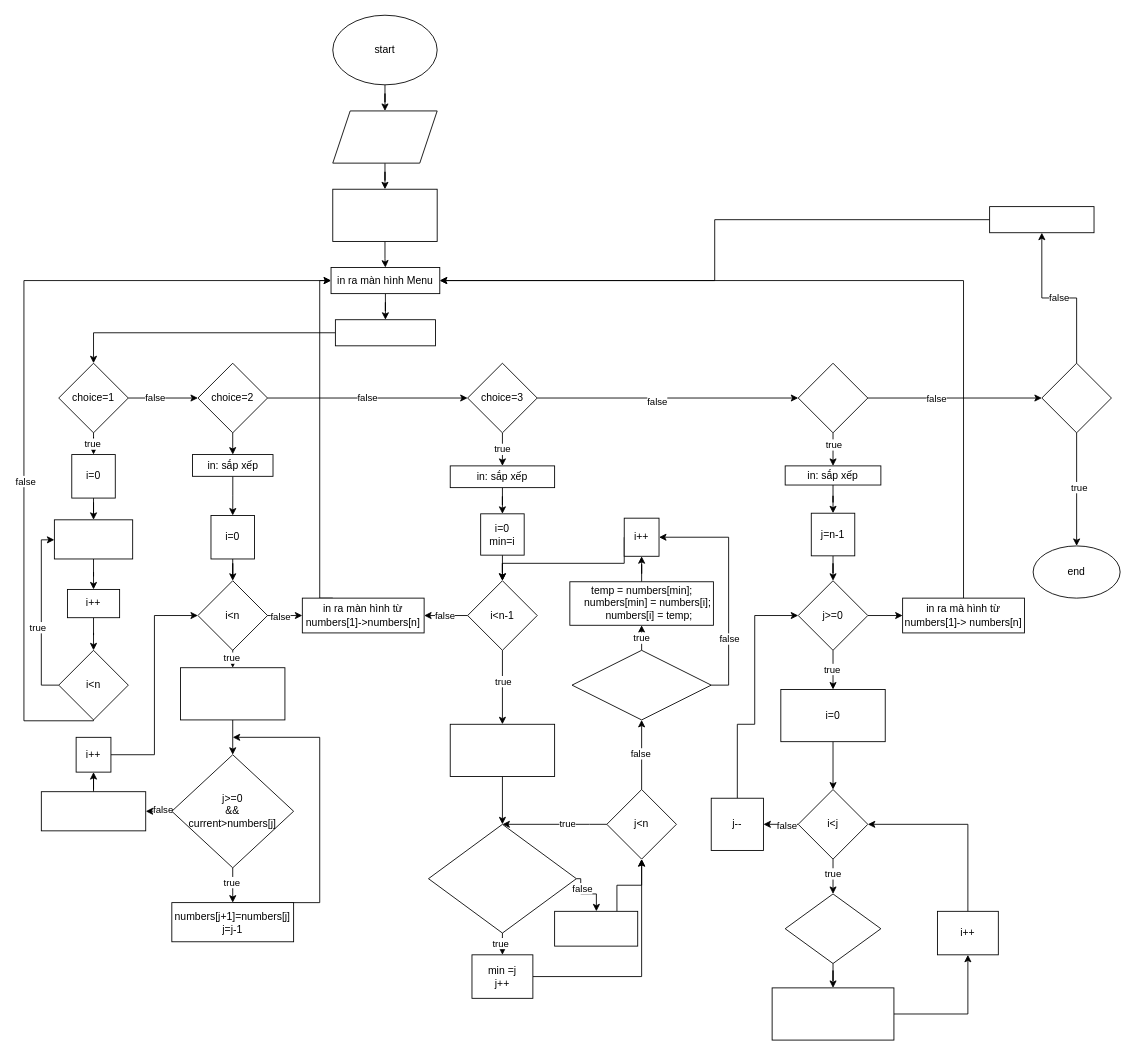
This 1135x1055 diagram has some shape labels left out. Here are the shapes that lost their labels. From the top down, the box of each, then its label:
(332, 110, 437, 163): i,j,n,min, temp,number[n], choice,current.
(332, 188, 437, 241): nhập số lượng phần tử của mảng và giá trị các phần tử
(989, 206, 1094, 233): lựa chọn không hợp lệ
(335, 319, 435, 346): nhập lựa chọn
(797, 362, 868, 433): choice=4
(1041, 362, 1111, 433): choice=5
(54, 519, 133, 559): in numbers[i] ra màn hình
(180, 667, 285, 720): j=i-1 current=numbers[i]
(571, 649, 711, 720): numbers[min]!=numbers[i]
(449, 723, 555, 776): j=i+1
(40, 791, 146, 831): numbers[j+1]=current
(428, 823, 576, 933): numbers[min]>numbers[j]
(554, 910, 638, 946): j++
(784, 893, 881, 964): numbers[i]<numbers[i+1]
(771, 987, 894, 1040): temp=numbers[i] numbers[i]=numbers[i+1] numbers[i+1]=temp
